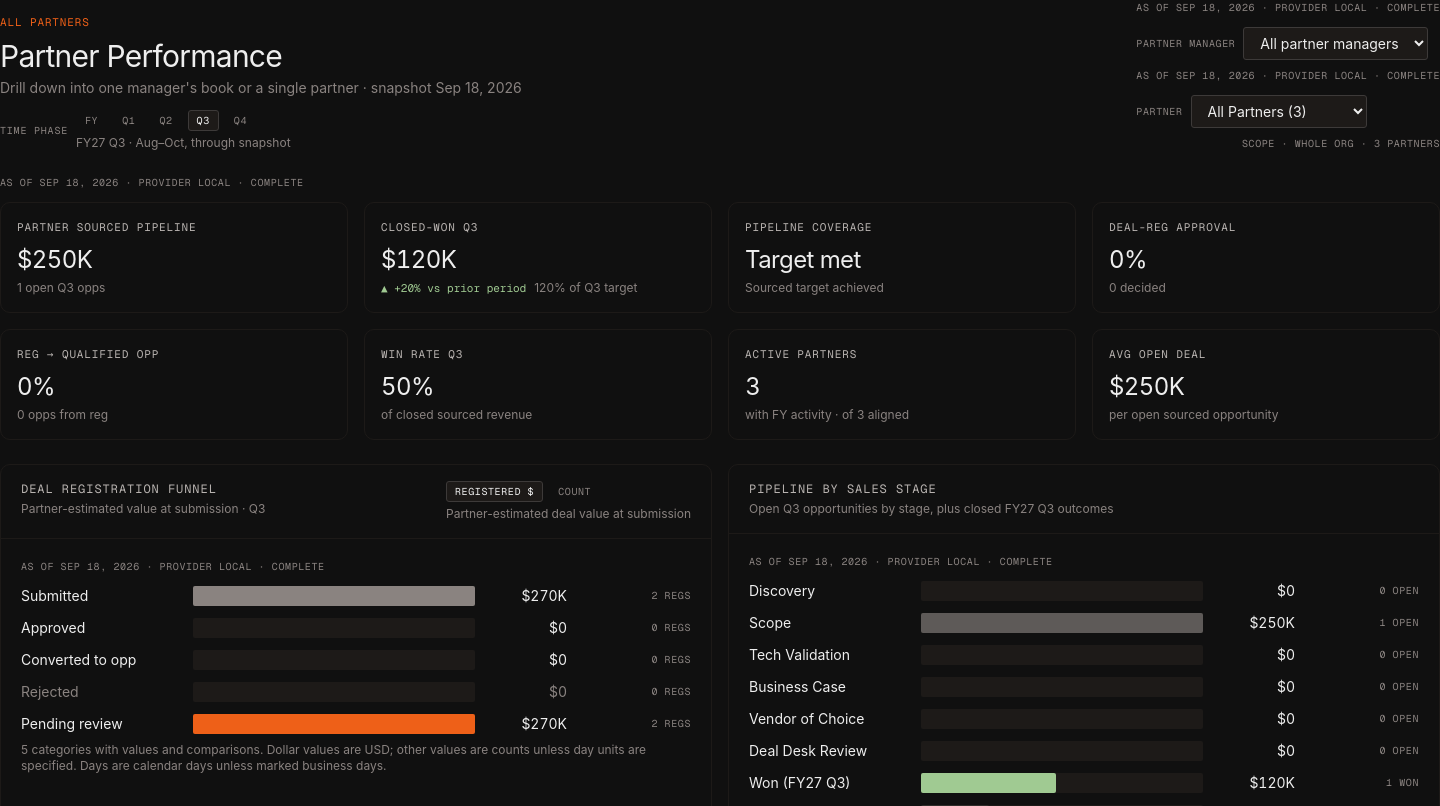
Scenario: PartnerPerformanceView › renders the whole-org book against the snapshot quarter
Check: the text "Scope · whole org · 3 partners" is shown, box [1242,136,1439,151]
Check: the text "All Partners" is shown, box [0,14,90,28]
Select "J. Alvarez" in the dropdown labelled "Partner manager" at (1336, 44), box [1243,27,1428,60]
(page scrolled)
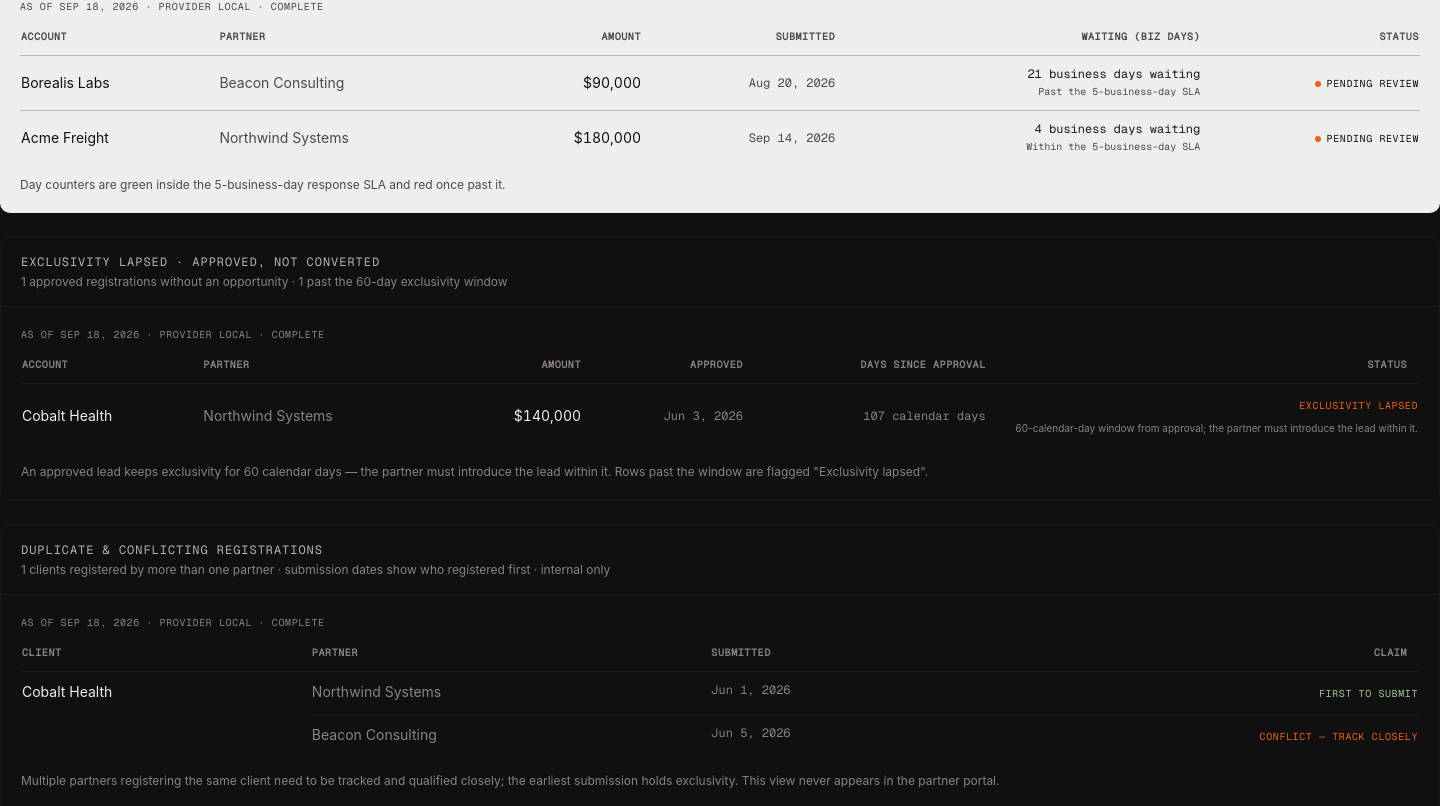
Check: the text "1 approved registrations without an opportunity · 1 past the 60-day exclusivity window" is shown, box [21,274,508,288]
Check: the text "1 clients registered by more than one partner" is shown, box [21,562,610,576]
